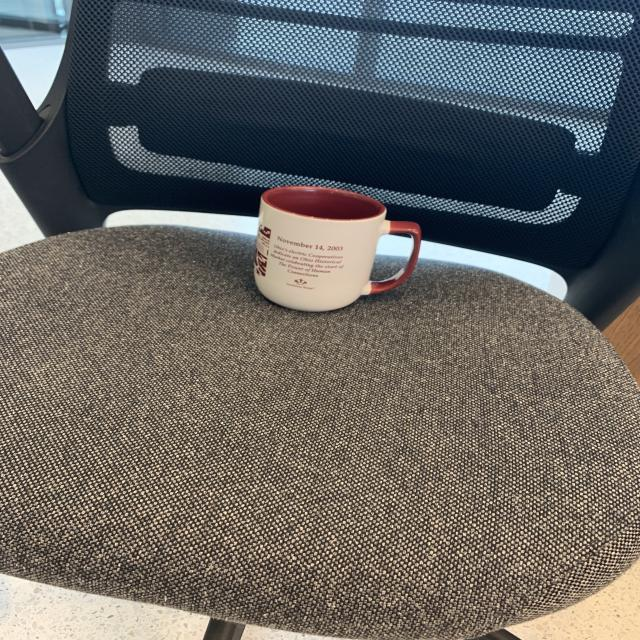Cup: (248, 182, 430, 324)
